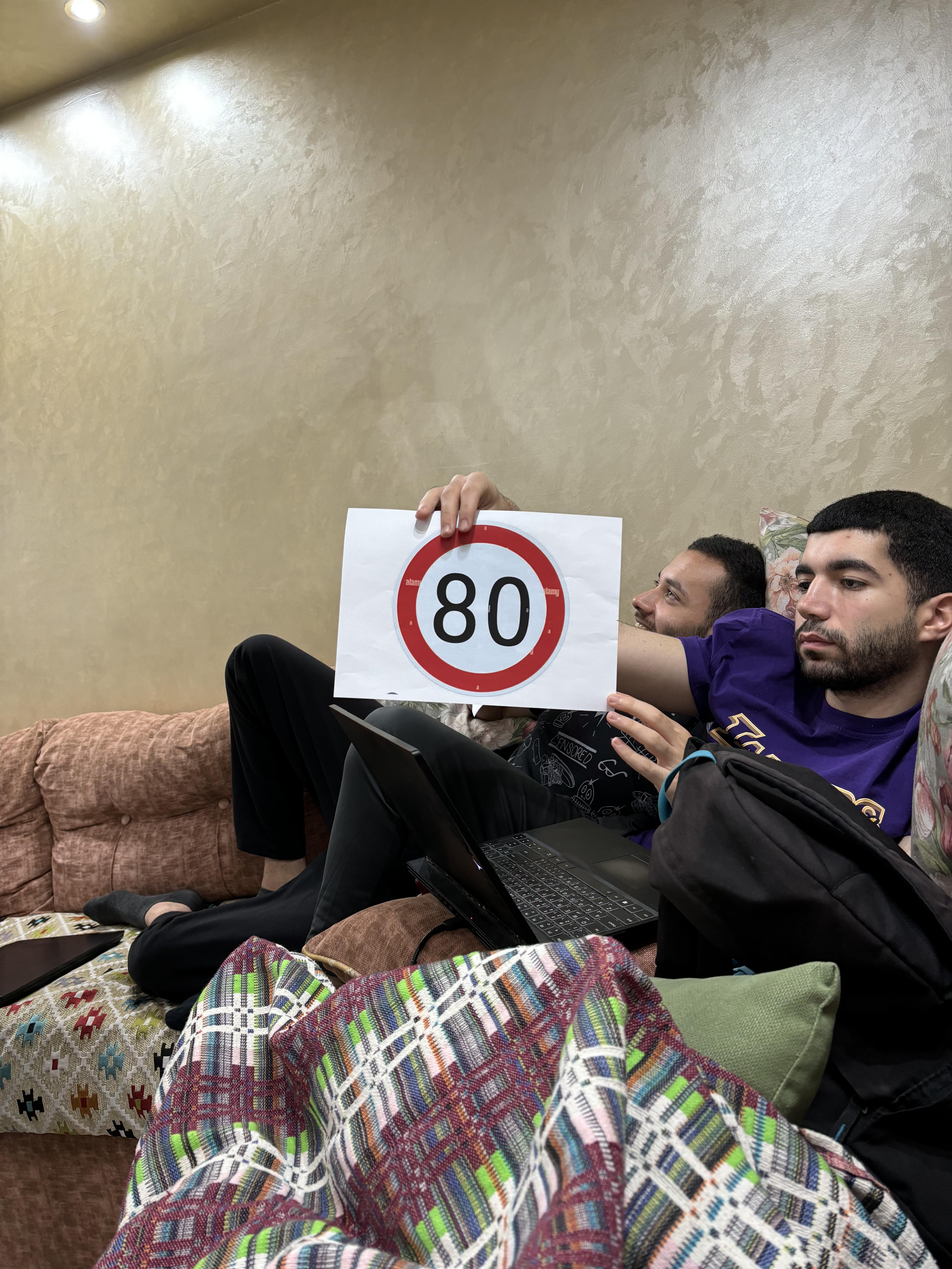80-Speed: (394, 521, 572, 700)
